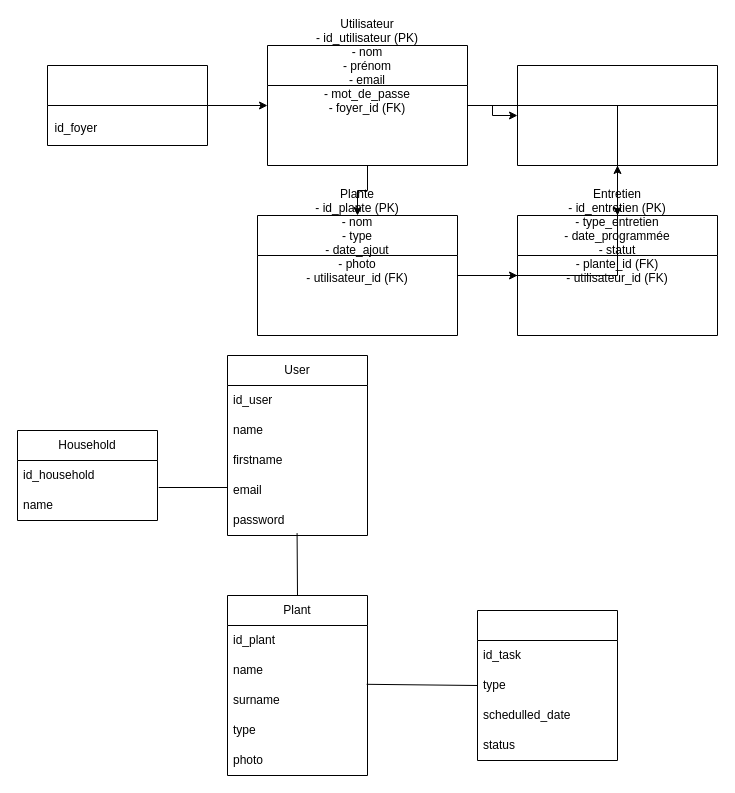
This 735x793 diagram has some shape labels left out. Each missing label, with the box of its shape:
Foyer - (PK) - nom_foyer: (46, 64, 208, 146)
Note - id_note (PK) - contenu - date_note - plante_id (FK) - utilisateur_id (FK): (516, 64, 718, 166)
Tasks: (476, 610, 618, 760)
